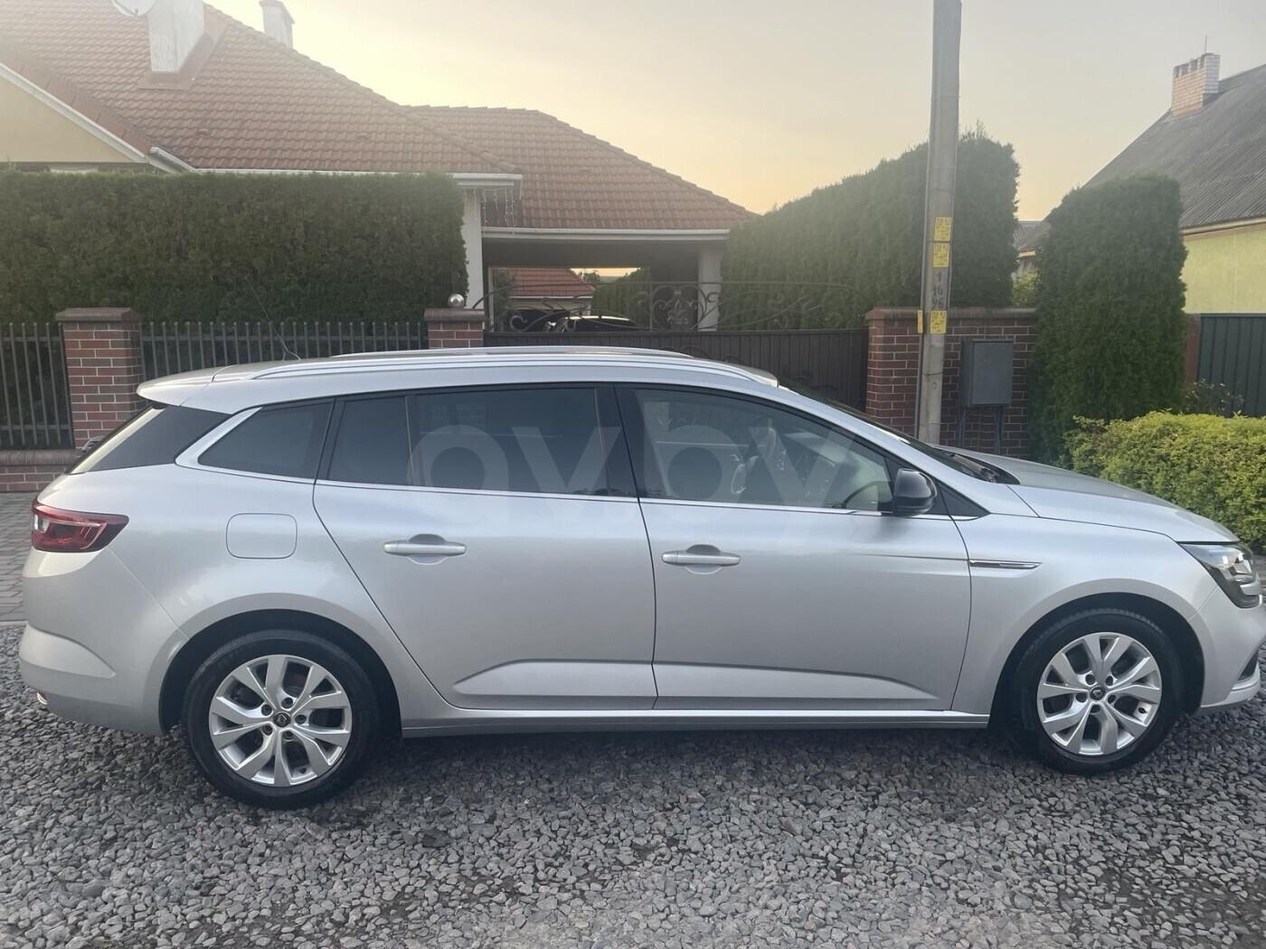Megane_2016-2020: (12, 345, 1256, 799)
